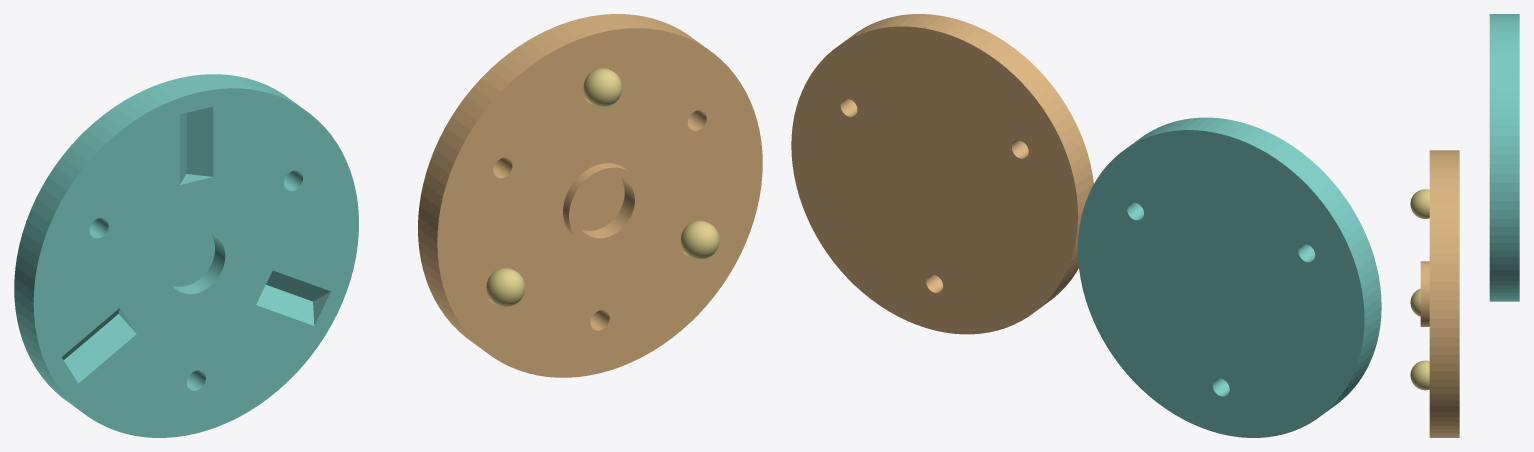
Rendered from repeatable_dock_demo.glb.
3 renders of one model, left to right at view 1: azimuth 30°, elevation 25°; view 2: azimuth 150°, elevation 25°; view 3: azimuth 270°, elevation 25°, orthographic. The views are drawn at different scales.
Visible parts, largest first — view 1: dock_base, dock_top, dock_balls; view 2: dock_base, dock_top; view 3: dock_top, dock_base, dock_balls.
Boxes of the visible parts, left/top/right/bottom form: dock_base: left=14, top=74, right=358, bottom=437; dock_top: left=418, top=14, right=762, bottom=377; dock_balls: left=486, top=68, right=719, bottom=306; dock_base: left=1078, top=117, right=1381, bottom=437; dock_top: left=791, top=14, right=1093, bottom=334; dock_top: left=1420, top=150, right=1459, bottom=437; dock_base: left=1489, top=14, right=1519, bottom=301; dock_balls: left=1410, top=189, right=1429, bottom=390.
Size of the model in its own units: 123 by 58 by 22.
